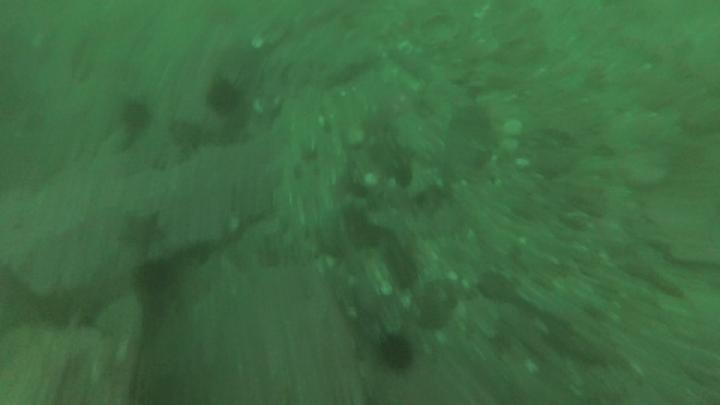echinus: (379, 334, 413, 372), (206, 81, 241, 113), (122, 104, 148, 128)
starfish: (118, 212, 164, 253)
